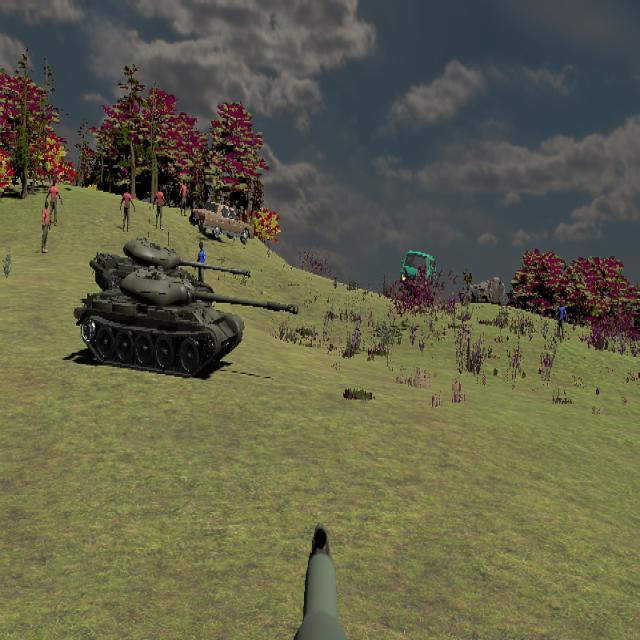Human: (47, 177, 63, 226), (41, 200, 51, 254)
Tank: (73, 270, 298, 379), (87, 239, 250, 303)
car: (189, 203, 252, 244), (401, 249, 437, 291)
